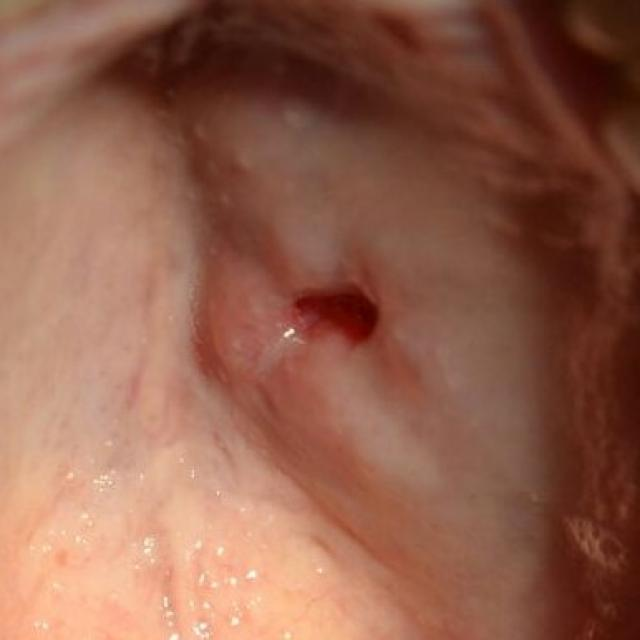Cancer: (258, 227, 419, 420)
